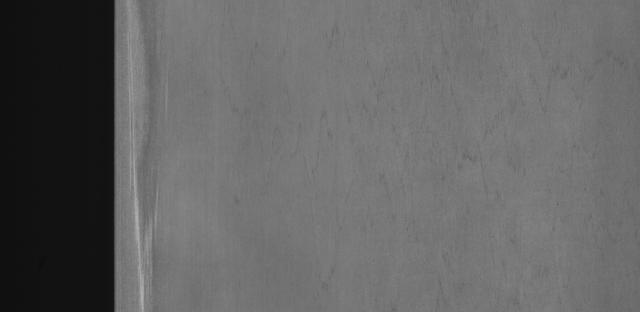silk_spot: (124, 32, 190, 297)
